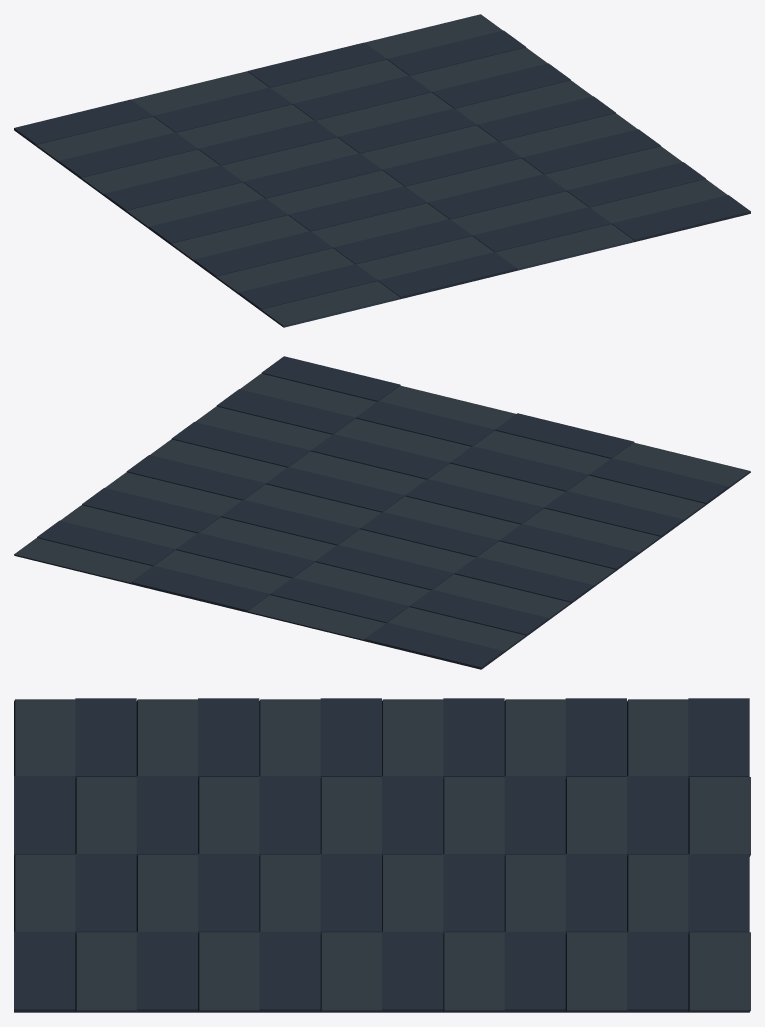
File: zemin.fbx
3 views of the same model, one above another, from view 1: azimuth 30°, elevation 25°; view 2: azimuth 150°, elevation 25°; view 3: azimuth 270°, elevation 25° (orthographic). The views are drawn at different scales.
Visible parts, largest first — view 1: zemin; view 2: zemin; view 3: zemin.
Part boxes in pixels (<box>): zemin: <box>14,14,750,327</box>; zemin: <box>14,356,750,669</box>; zemin: <box>14,698,750,1012</box>.
Size of the model in its own units: 59.8 by 0.2869 by 59.89.
